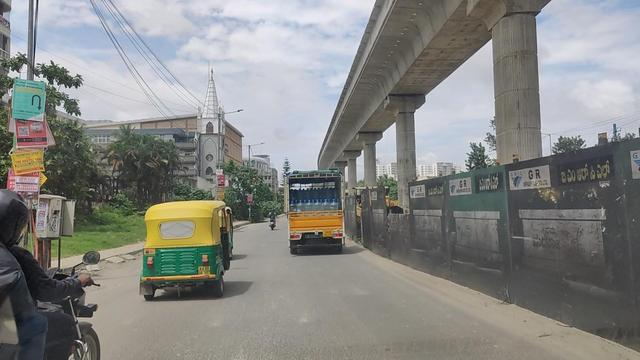HMV: (287, 168, 349, 259)
LMV: (139, 196, 226, 309)
